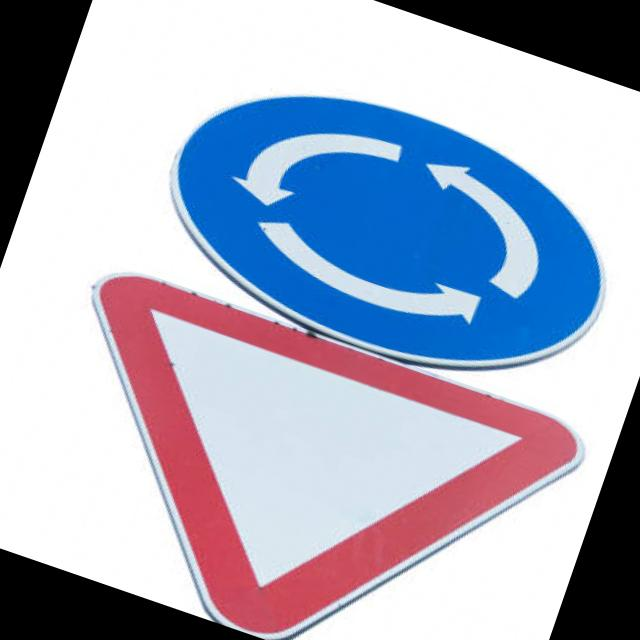round_about: (126, 33, 640, 416)
